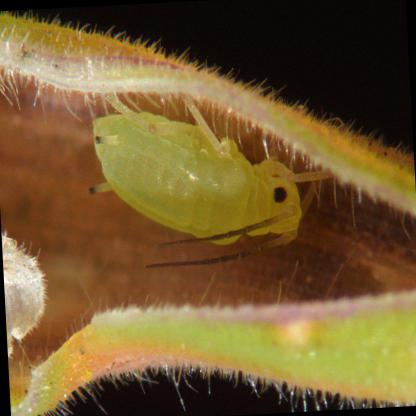schizaphis graminum: (87, 92, 299, 244)
